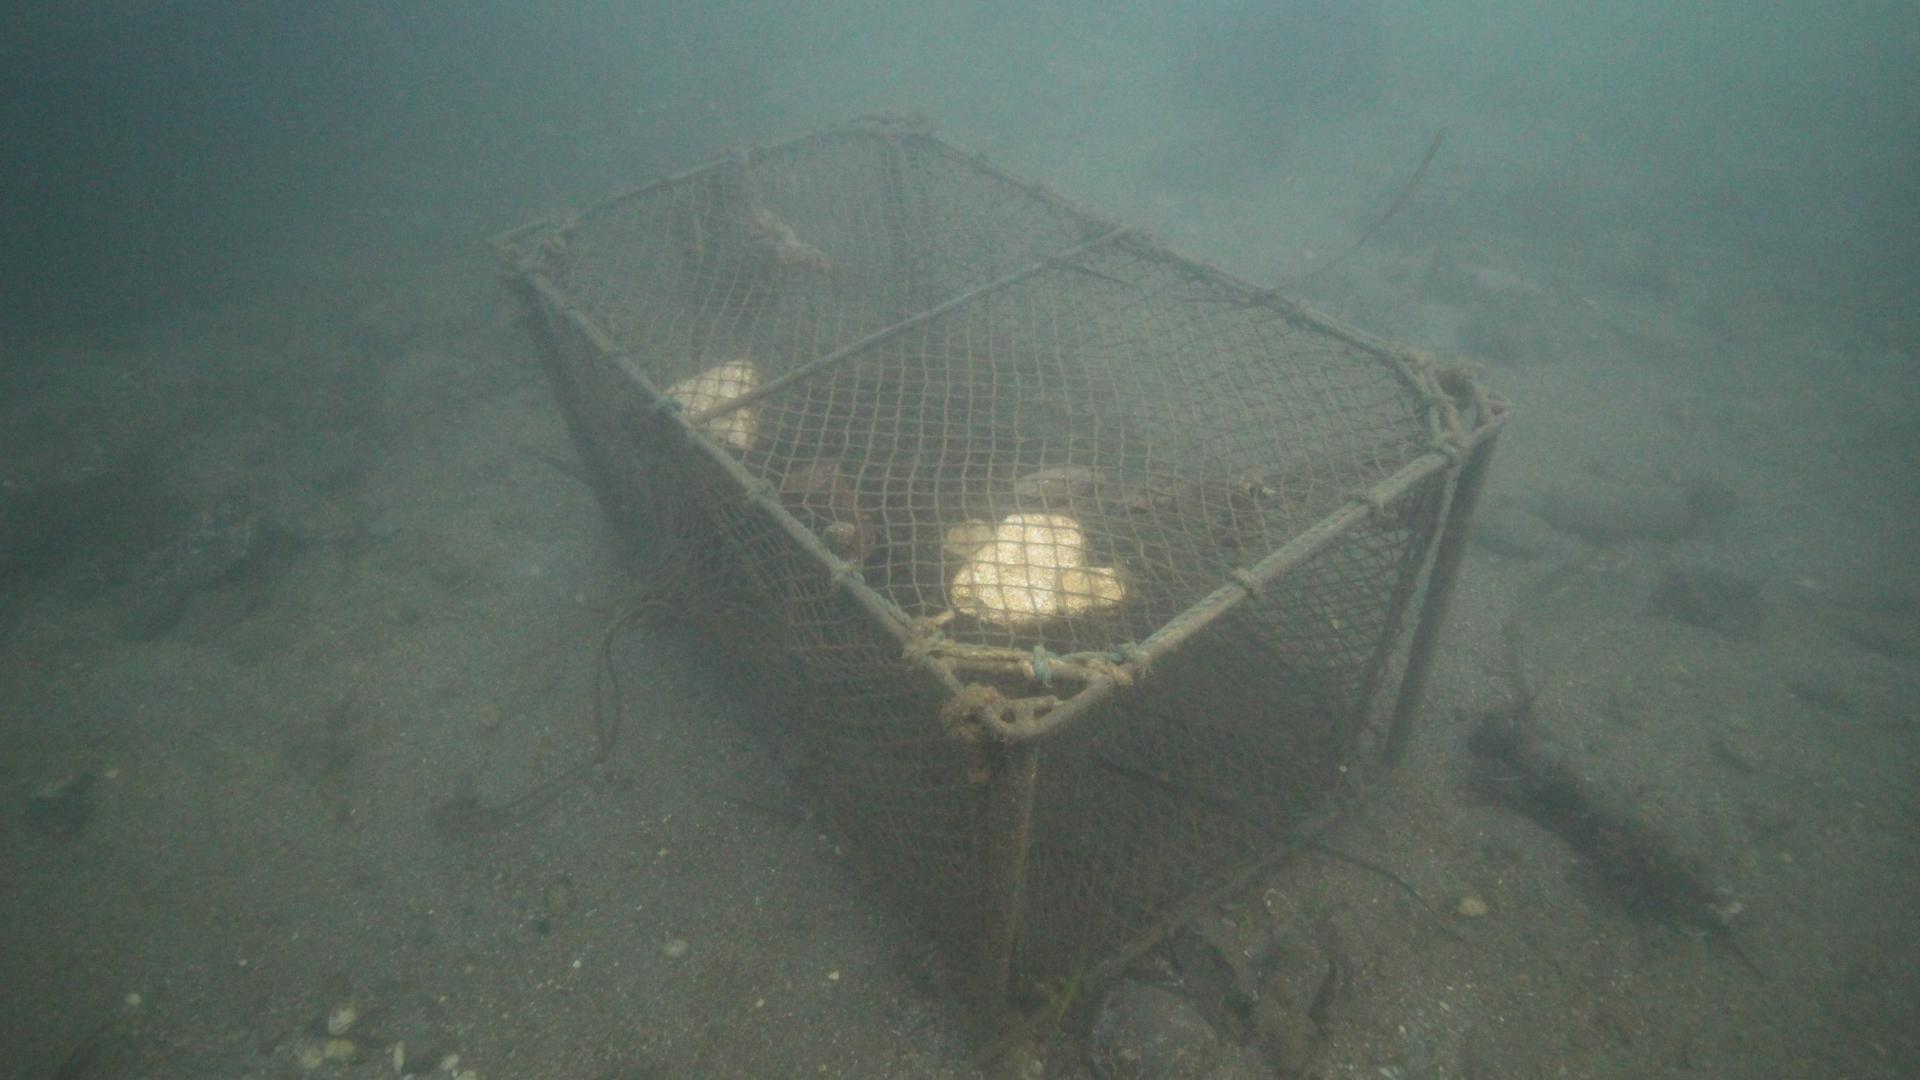rectangular fish trap: (483, 105, 1515, 1036)
